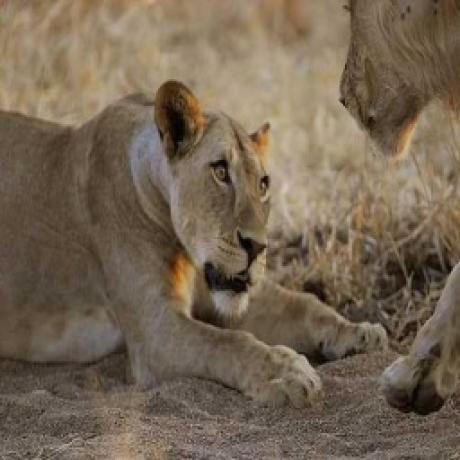Lion: (0, 72, 388, 404)
